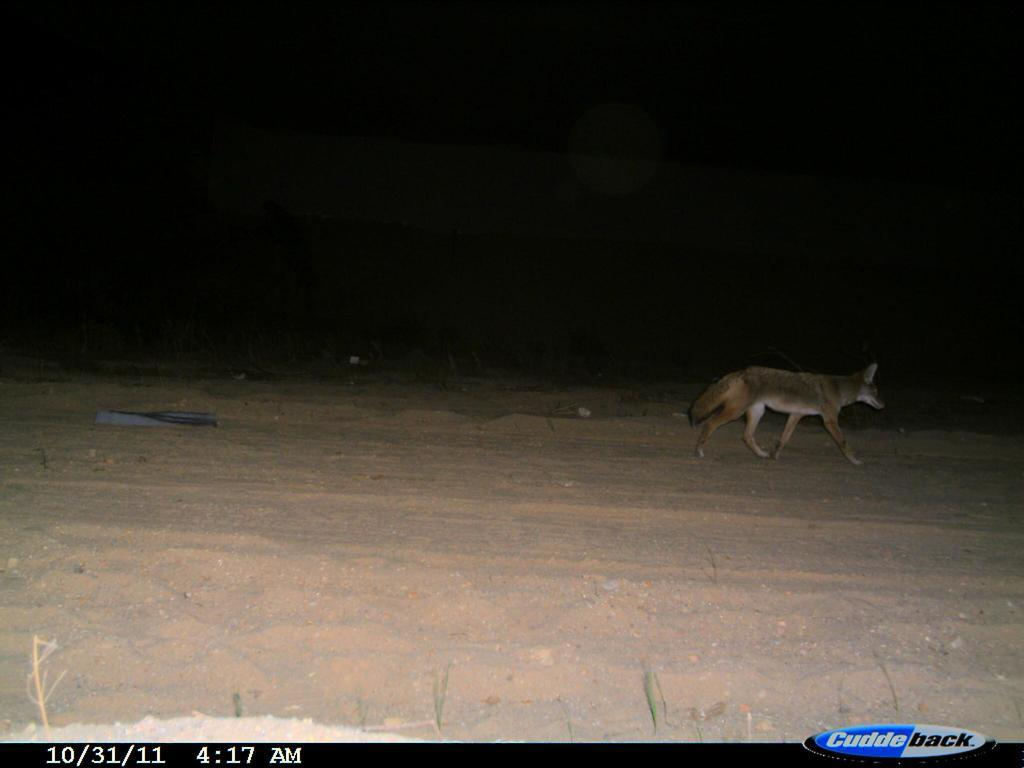coyote: (685, 350, 893, 479)
